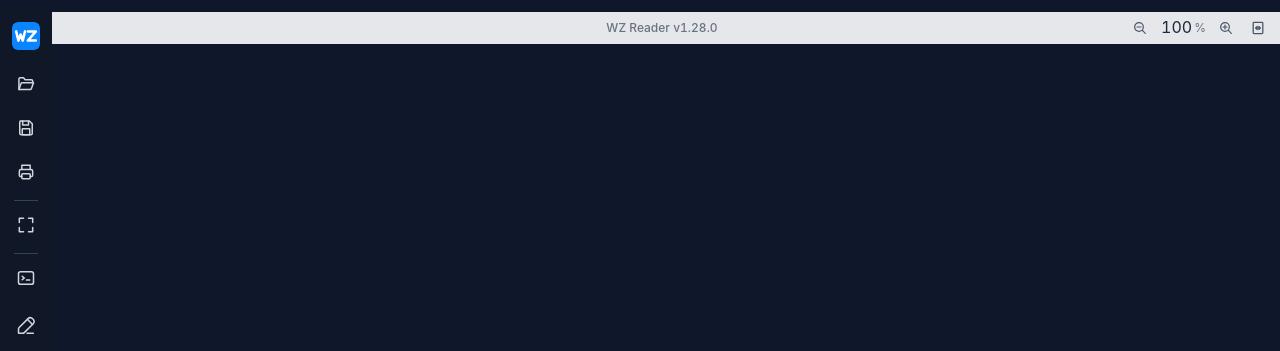
it: ActionBar › gives a reflowing document the same save menu, without the page-only formats
Click the button named "save" at (26, 128), box [6, 108, 46, 148]
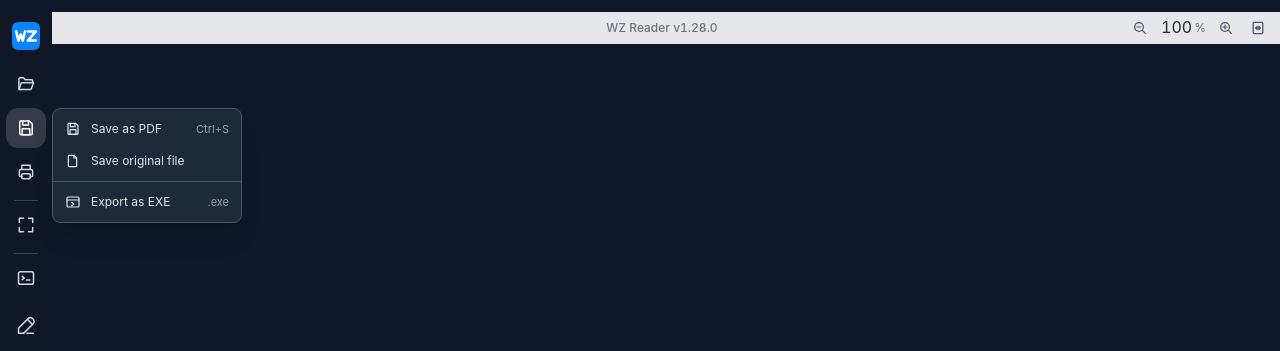
Result: the text "Save original file" is shown at [91, 153, 184, 168]
Result: the text "Save as PDF" is shown at [91, 121, 162, 136]
Result: the text "Export as EXE" is shown at [91, 194, 170, 209]
